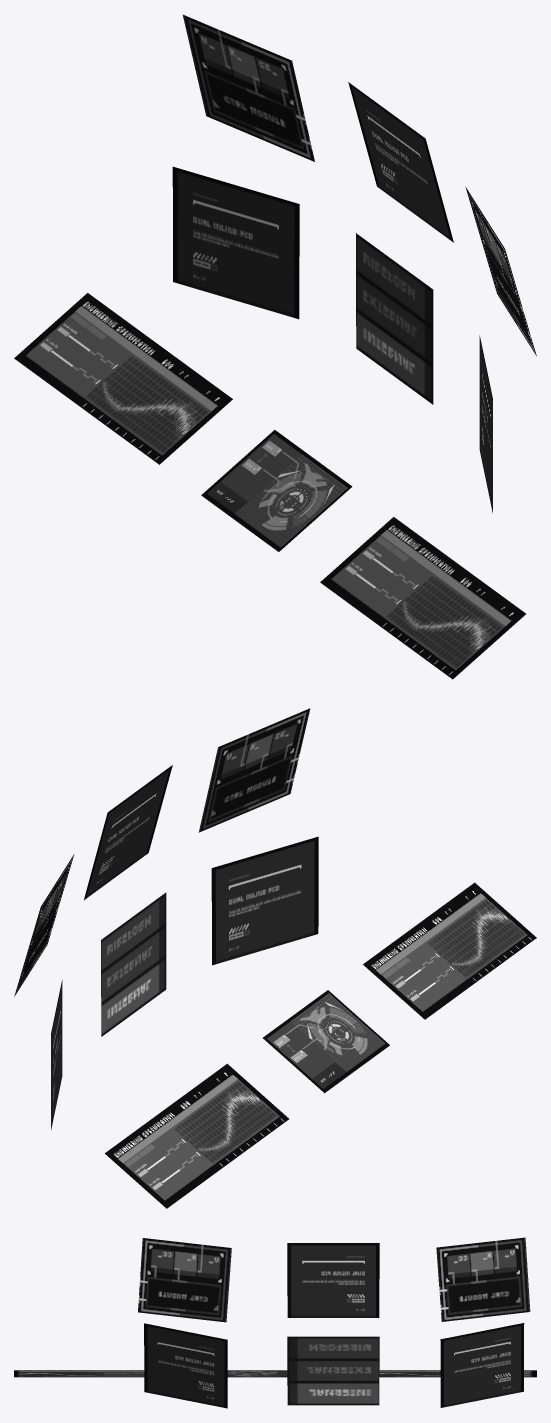
File: mprw_terminal_holo.FBX
The picture shows the model from 3 angles, top to bottom: view 1: azimuth 30°, elevation 25°; view 2: azimuth 150°, elevation 25°; view 3: azimuth 270°, elevation 25°; orthographic projection. The views are drawn at different scales.
Parts seen in each view (by area): view 1: mprw_terminal_holo; view 2: mprw_terminal_holo; view 3: mprw_terminal_holo.
Part boxes in pixels (x1=…): mprw_terminal_holo: x1=14, y1=14, x2=536, y2=679; mprw_terminal_holo: x1=14, y1=708, x2=536, y2=1208; mprw_terminal_holo: x1=14, y1=1237, x2=536, y2=1408.
Bounding box in the file's own units: 79.99 × 107 × 263.
Materials: 1 (1 with a texture image).
